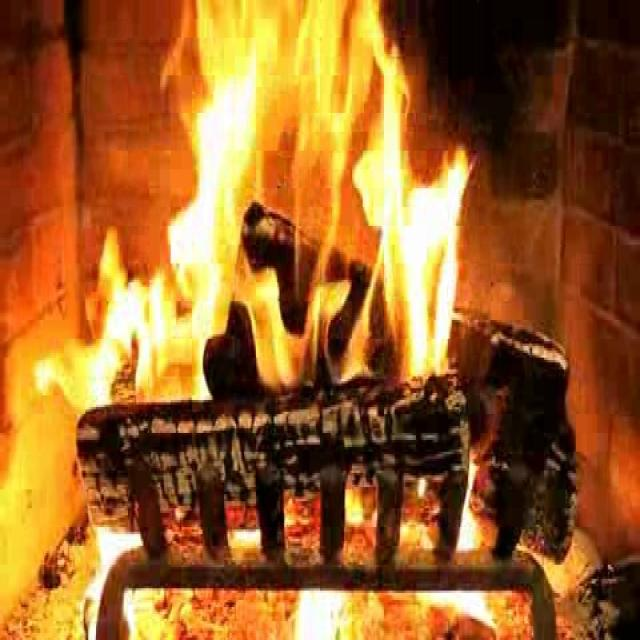fire: (142, 13, 461, 404)
